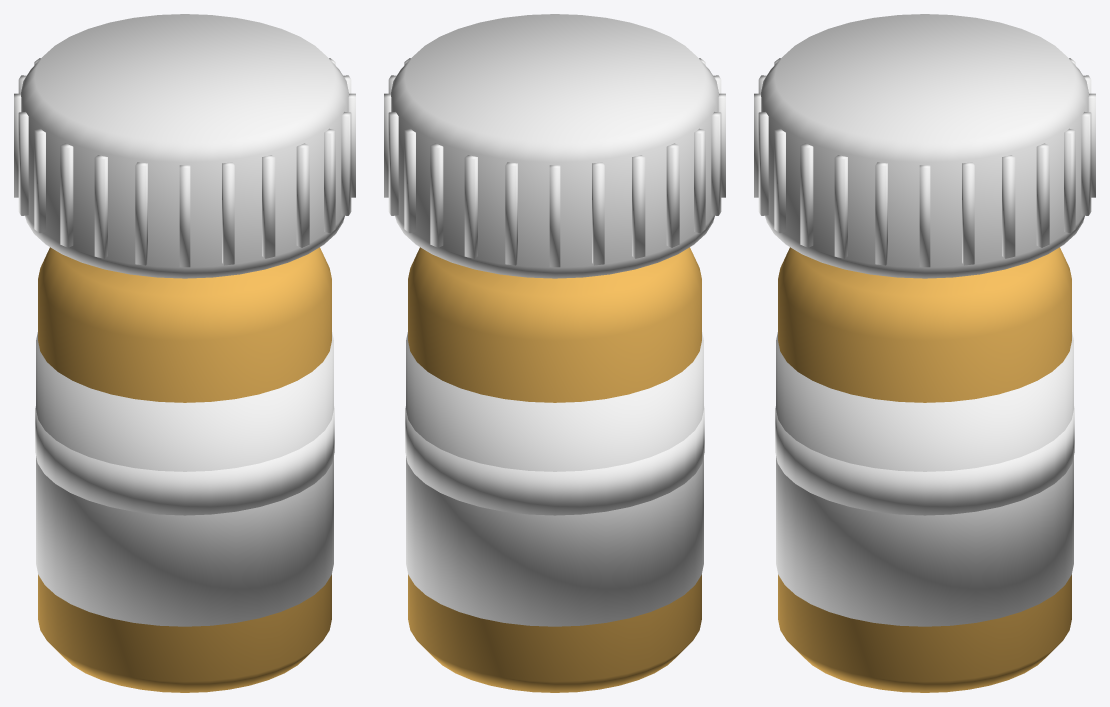
File: SM_Bulk.glb
The picture shows the model from 3 angles, left to right: view 1: azimuth 30°, elevation 25°; view 2: azimuth 150°, elevation 25°; view 3: azimuth 270°, elevation 25°; orthographic projection.
Parts seen in each view (by area): view 1: SM_Bulk; view 2: SM_Bulk; view 3: SM_Bulk.
Boxes of the visible parts, x1,y1,x2,y2 form: SM_Bulk: [14, 14, 355, 692]; SM_Bulk: [384, 14, 725, 692]; SM_Bulk: [754, 14, 1095, 692].
Size of the model in its own units: 0.05 by 0.0905 by 0.05.
